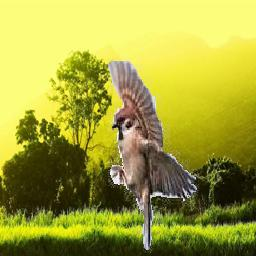Sparrow: (109, 59, 200, 254)
